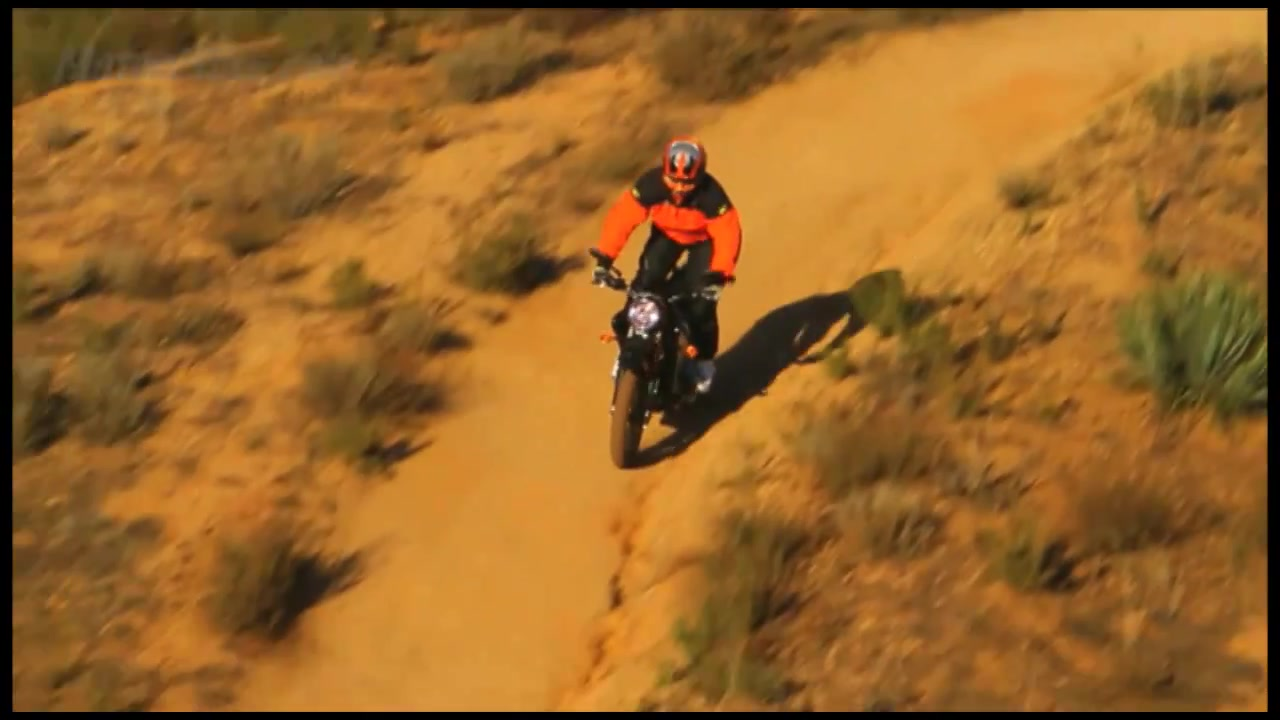motorbike: (585, 244, 732, 474)
